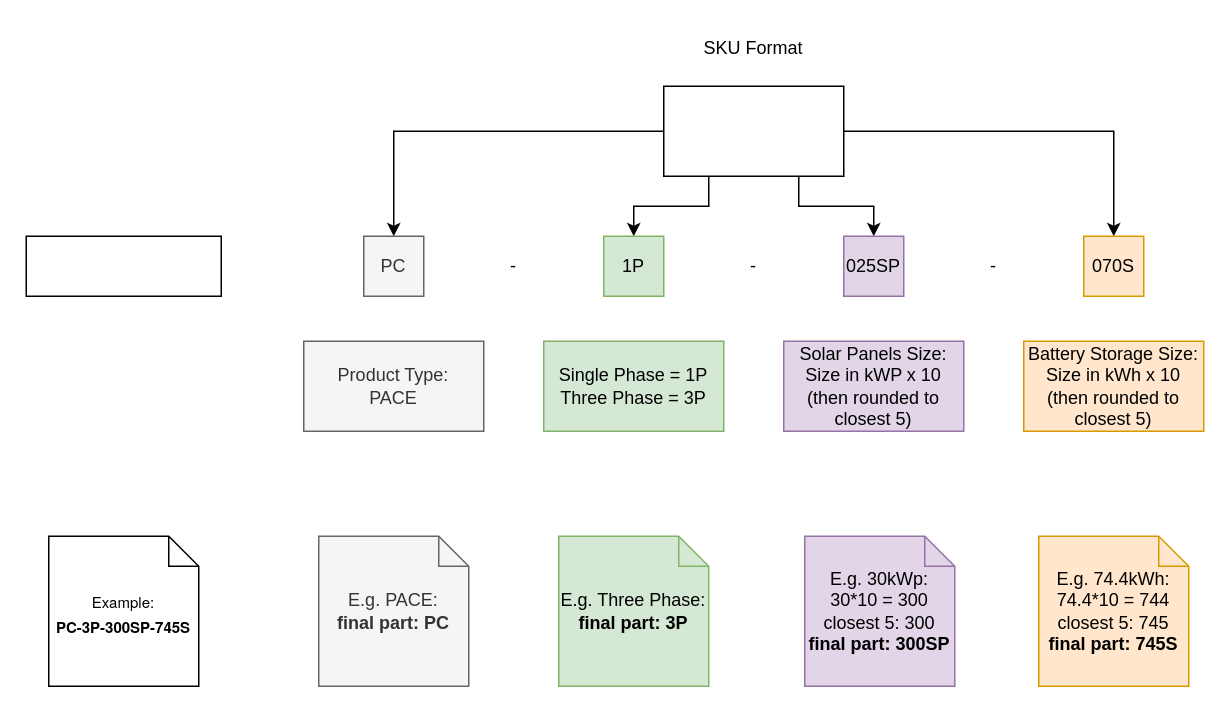
Image size: 1230x713. Some labels were removed from this diagram. The shapes that lost their labels are listed below. From the top down, each one's box as (x1, y1, x2, y2) in pixels, then its label:
(662, 85, 844, 176): PC- A P- BBB SP- CCC S
(25, 235, 221, 296): PC-1P-025SP-070S
